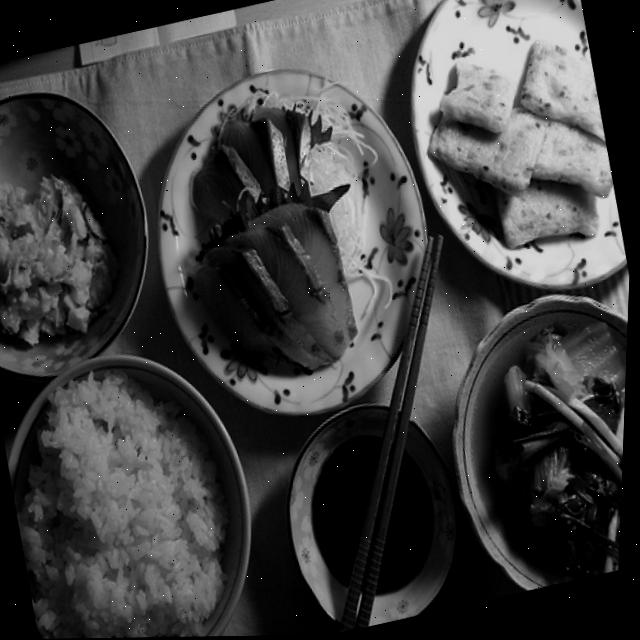刺身生食: (128, 53, 427, 424)
